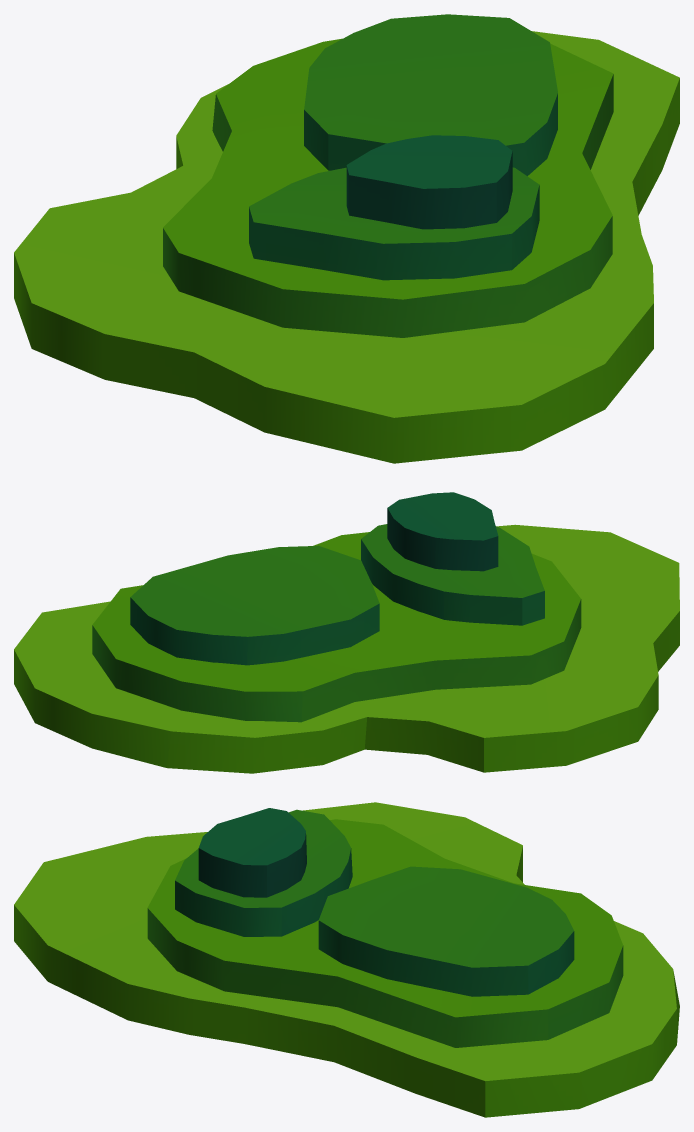
Rendered from SM_ME_Hill_01.fbx.
3 views of the same model, one above another, from view 1: azimuth 30°, elevation 25°; view 2: azimuth 150°, elevation 25°; view 3: azimuth 270°, elevation 25° (orthographic). The views are drawn at different scales.
Parts seen in each view (by area): view 1: Hill1; view 2: Hill1; view 3: Hill1.
Part boxes in pixels (x1=…): Hill1: x1=14, y1=14, x2=679, y2=463; Hill1: x1=14, y1=492, x2=679, y2=773; Hill1: x1=14, y1=802, x2=679, y2=1117.
Bounding box in the file's own units: 328 × 70.47 × 331.
